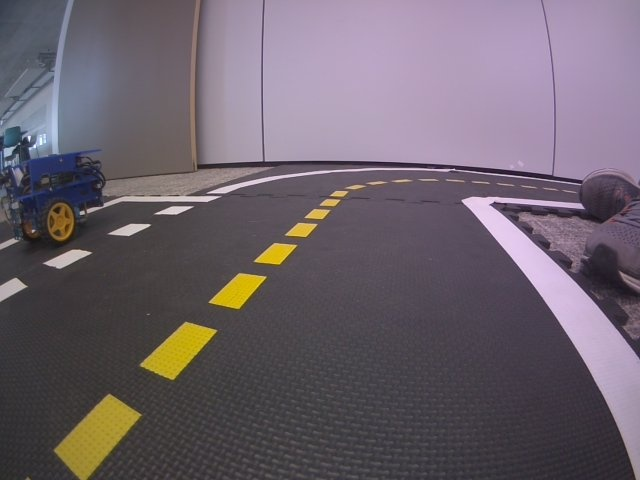Bot: (0, 149, 107, 244)
occupiedSlot: (0, 196, 220, 306)
